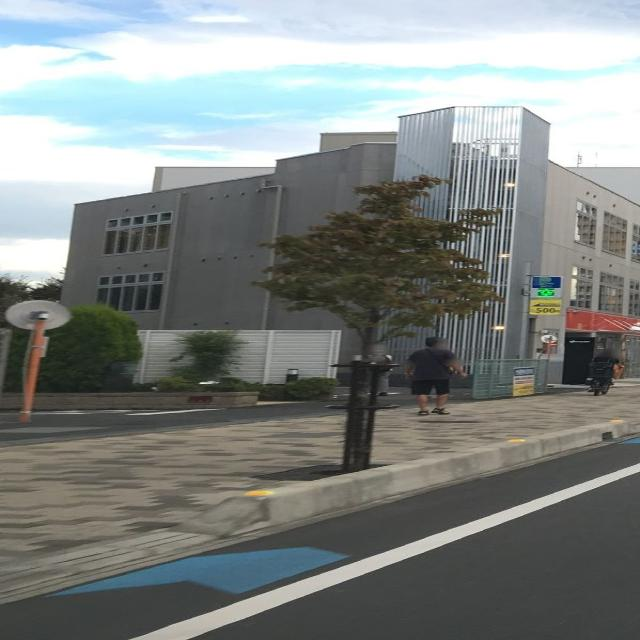dogwood: (248, 173, 507, 471)
